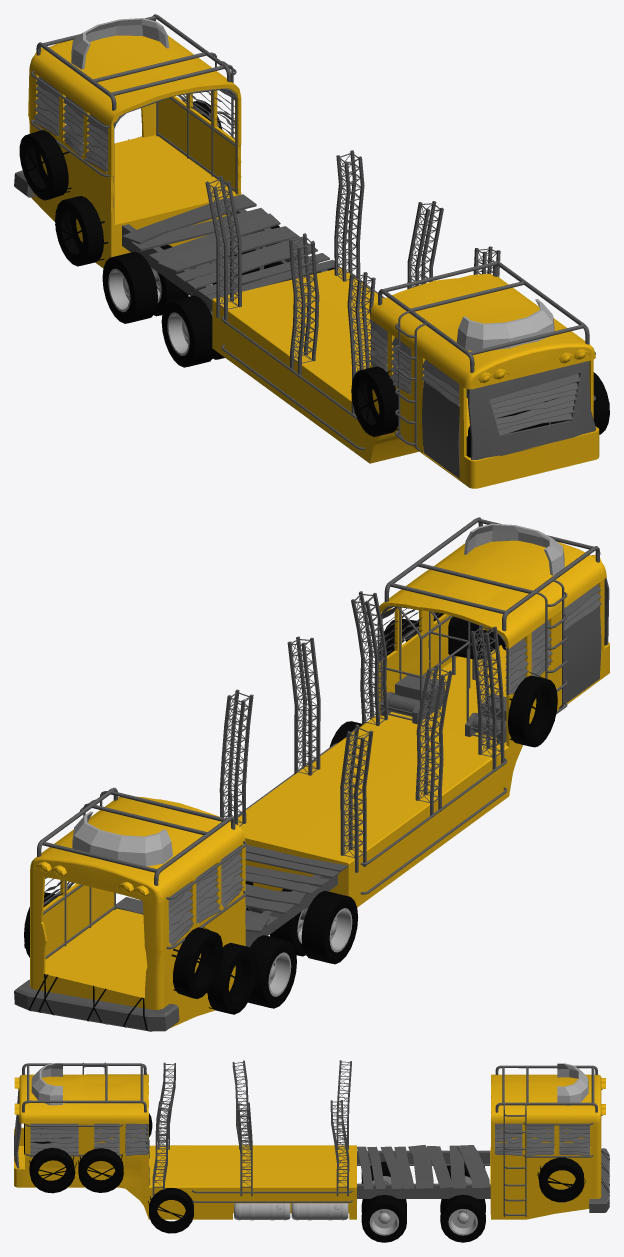
The model's file is Bus Trailer Final2.fbx.
3 views of the same model, one above another, from view 1: azimuth 30°, elevation 25°; view 2: azimuth 150°, elevation 25°; view 3: azimuth 270°, elevation 25° (orthographic). The views are drawn at different scales.
Parts seen in each view (by area): view 1: Bus_Trailer_Mesh, Passenger_Side_Back_Wheel, Passenger_Side_Front_Wheel; view 2: Bus_Trailer_Mesh, Passenger_Side_Front_Wheel, Passenger_Side_Back_Wheel; view 3: Bus_Trailer_Mesh, Driver_Side_Front_Wheel, Driver_Side_Back_Wheel.
Part boxes in pixels (<box>): Bus_Trailer_Mesh: <box>14,14,609,488</box>; Passenger_Side_Back_Wheel: <box>102,245,188,323</box>; Passenger_Side_Front_Wheel: <box>161,295,224,367</box>; Bus_Trailer_Mesh: <box>14,517,609,1031</box>; Passenger_Side_Front_Wheel: <box>270,888,358,964</box>; Passenger_Side_Back_Wheel: <box>248,935,296,1008</box>; Bus_Trailer_Mesh: <box>14,1060,609,1233</box>; Driver_Side_Front_Wheel: <box>361,1195,406,1242</box>; Driver_Side_Back_Wheel: <box>440,1194,485,1242</box>.
Size of the model in its own units: 3.8 by 4.58 by 17.29.
